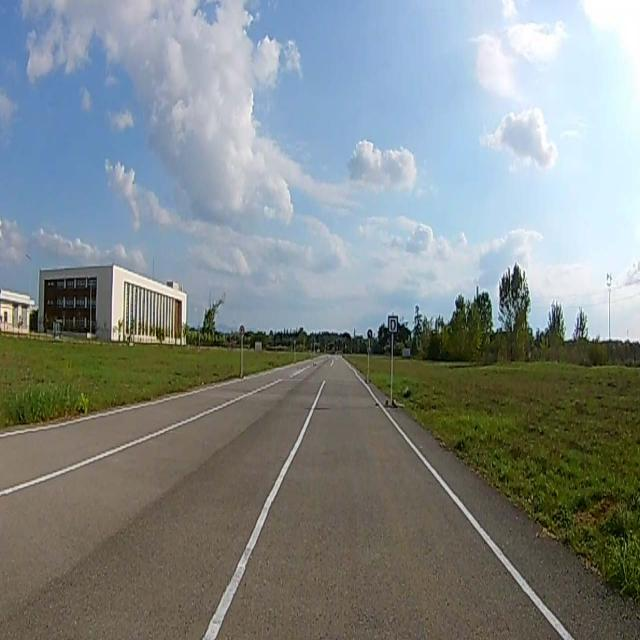durak: (388, 316, 398, 334)
